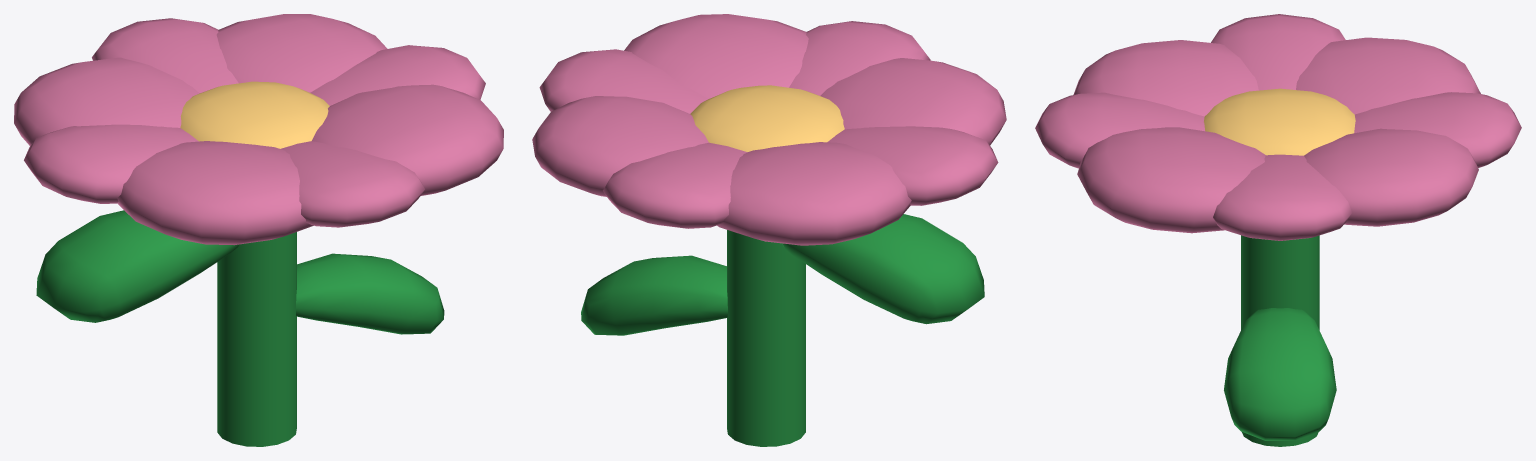
Rendered from tablePastel.glb.
3 renders of one model, left to right at view 1: azimuth 30°, elevation 25°; view 2: azimuth 150°, elevation 25°; view 3: azimuth 270°, elevation 25°, orthographic. The views are drawn at different scales.
Parts seen in each view (by area): view 1: tablePastel; view 2: tablePastel; view 3: tablePastel.
Part boxes in pixels (x1=…): tablePastel: x1=14, y1=14, x2=503, y2=446; tablePastel: x1=532, y1=14, x2=1006, y2=446; tablePastel: x1=1035, y1=14, x2=1521, y2=446.
Bounding box in the file's own units: 1.51 × 1.1 × 1.48.
Materials: 1 (1 with a texture image).
